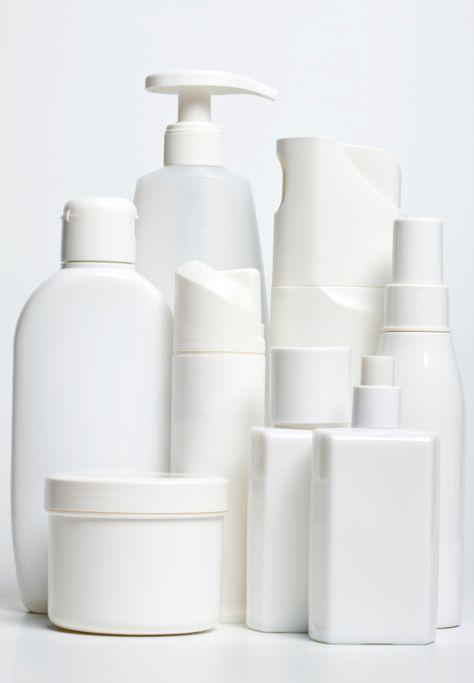HDPE: (11, 261, 174, 614), (310, 428, 440, 645), (375, 331, 463, 628), (172, 354, 267, 624), (48, 511, 224, 635), (272, 138, 401, 287), (134, 168, 266, 296), (245, 425, 310, 633), (145, 72, 277, 168), (173, 259, 265, 353), (43, 473, 229, 512), (385, 219, 450, 330), (269, 346, 353, 424), (61, 197, 137, 262), (353, 356, 402, 427)
